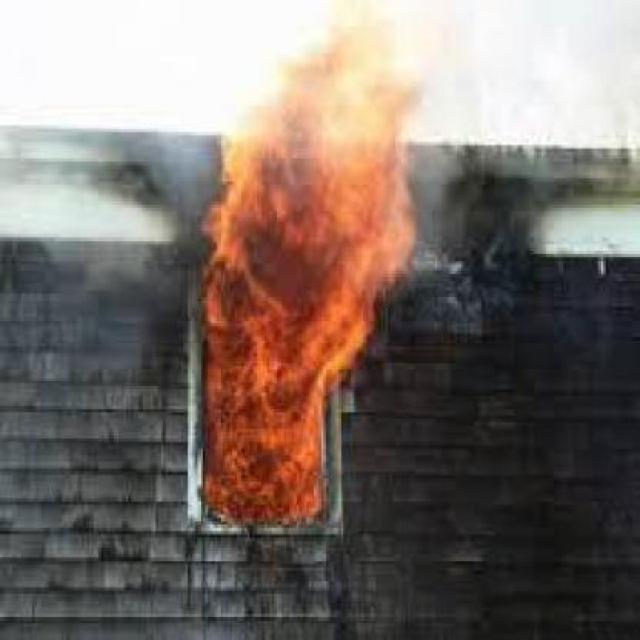Fire: (198, 22, 386, 550)
